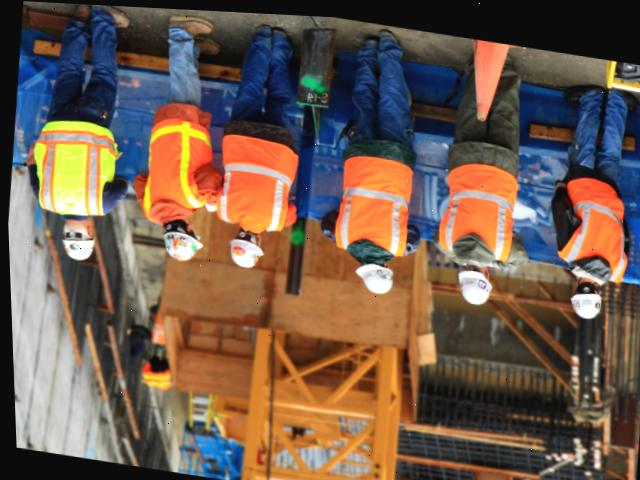helmet: (448, 260, 494, 302), (563, 275, 604, 316), (159, 227, 205, 263), (350, 256, 391, 292), (223, 238, 266, 270), (59, 232, 93, 266)
vest: (136, 94, 213, 230), (333, 147, 418, 253), (30, 116, 116, 220), (433, 153, 514, 257), (214, 143, 290, 233), (559, 173, 624, 264)
